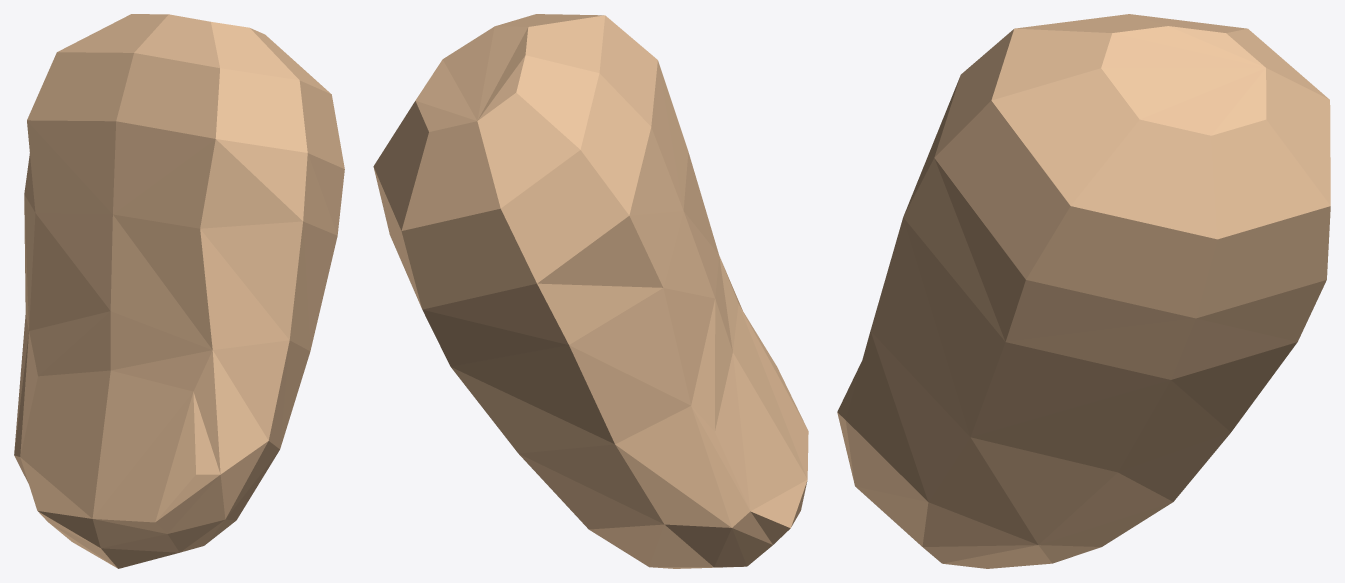
Rendered from RThumb2_mesh.dae.
The picture shows the model from 3 angles, left to right: view 1: azimuth 30°, elevation 25°; view 2: azimuth 150°, elevation 25°; view 3: azimuth 270°, elevation 25°; orthographic projection. The views are drawn at different scales.
Parts seen in each view (by area): view 1: RThumb2; view 2: RThumb2; view 3: RThumb2.
Part boxes in pixels (x1=…): RThumb2: x1=14, y1=14, x2=344, y2=568; RThumb2: x1=373, y1=14, x2=808, y2=568; RThumb2: x1=837, y1=14, x2=1330, y2=568.
Size of the model in its own units: 0.0196 by 0.0288 by 0.0215.
